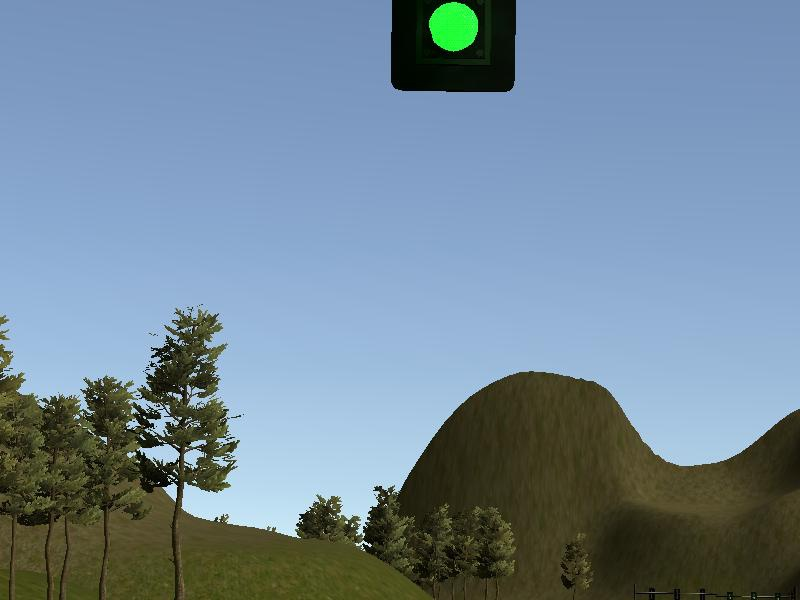Green: (388, 1, 519, 96)
